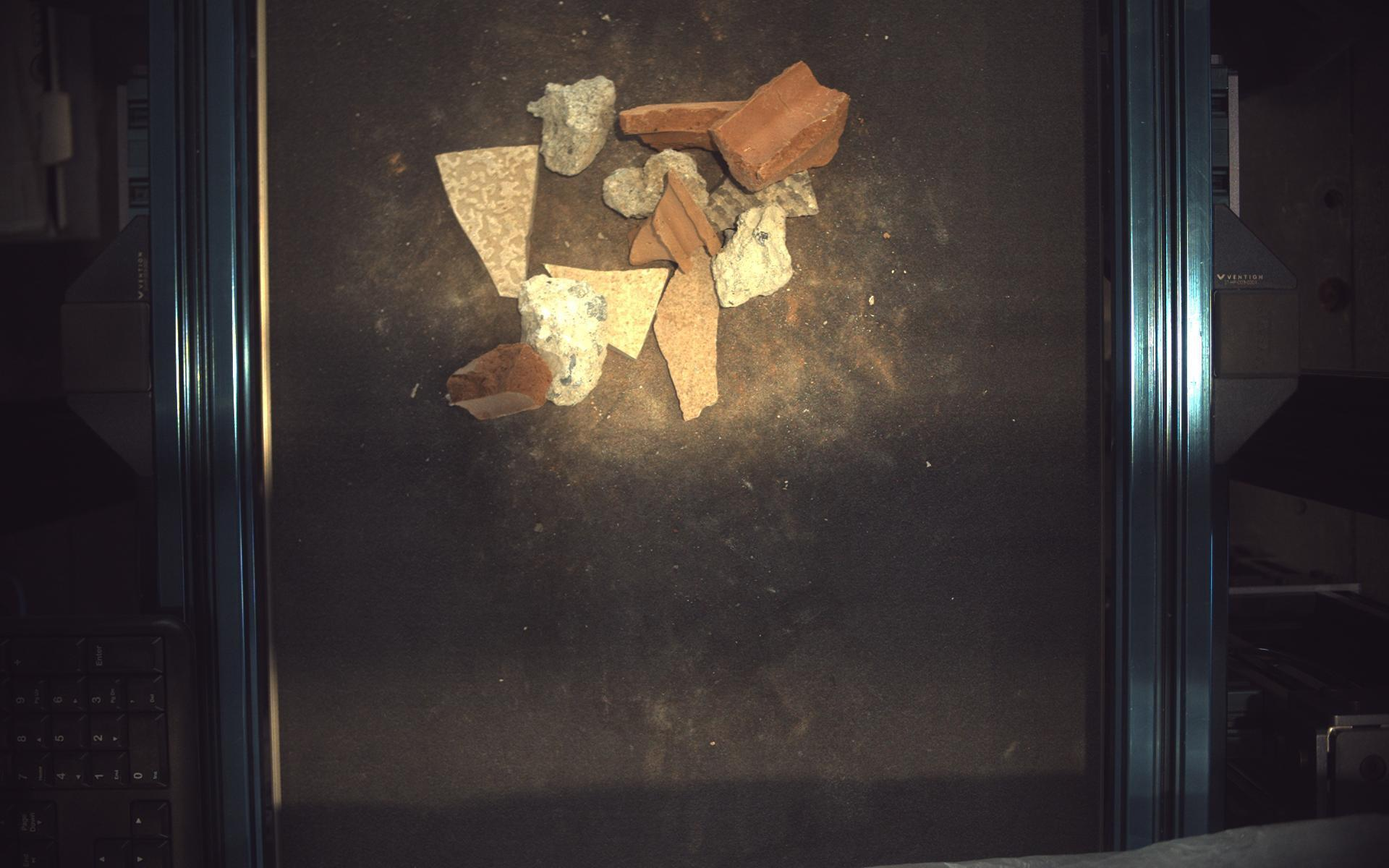brick: (709, 58, 851, 190), (628, 166, 723, 273), (446, 341, 553, 420), (618, 98, 747, 150)
concrete: (517, 272, 607, 406), (525, 72, 616, 175), (711, 200, 794, 307), (603, 145, 710, 218)
tile: (434, 142, 538, 297), (543, 261, 669, 358), (653, 246, 721, 421), (702, 169, 820, 231)
